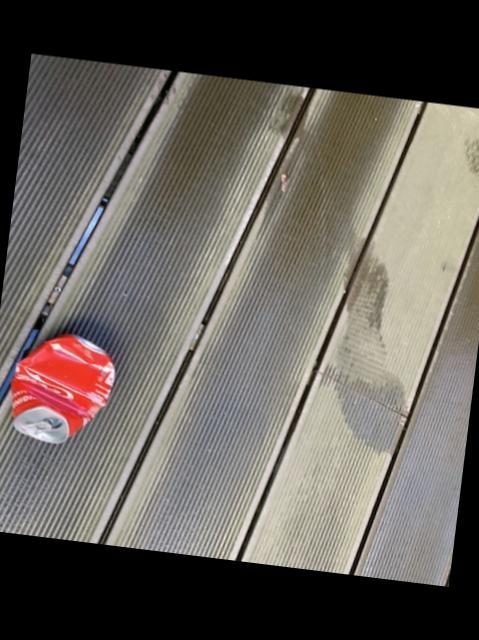metal: (11, 333, 114, 441)
